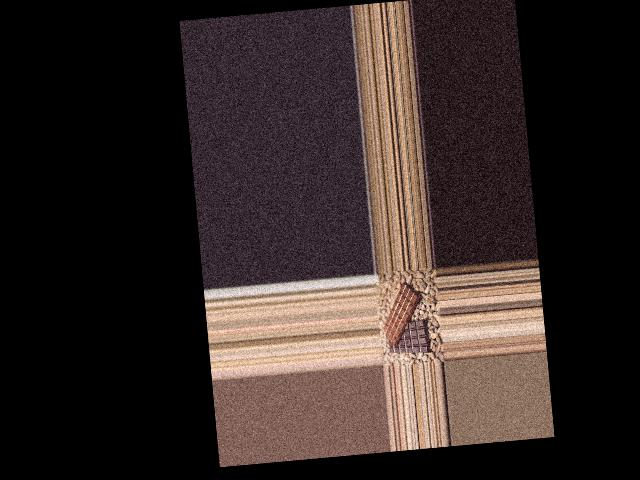chocolate: (384, 319, 433, 360)
